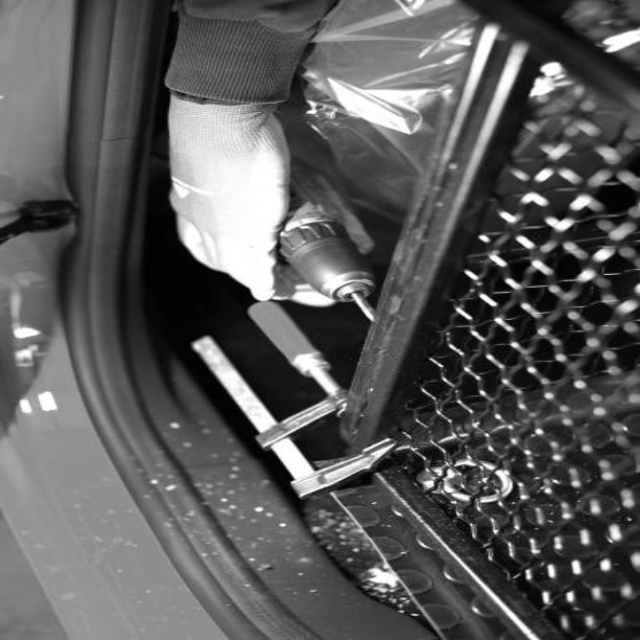Guantes: (167, 91, 301, 304)
